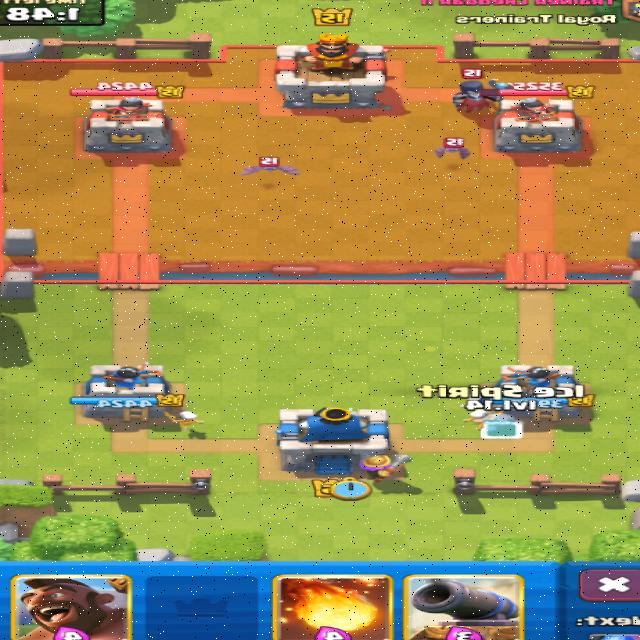Enemy-Bat: (242, 157, 298, 175), (435, 139, 471, 158)
Enemy-KingTower: (276, 34, 388, 108)
Enemy-NightWitch: (454, 80, 503, 112), (489, 80, 513, 88)
Enemy-PrincessTower: (85, 97, 172, 152), (495, 97, 582, 151)
Player-KingTower: (276, 407, 386, 474)
Player-Musketeer: (362, 454, 413, 482)
Player-PrincessTower: (71, 363, 183, 425), (481, 365, 594, 425)
Player-Skeleton: (165, 411, 204, 430), (464, 409, 499, 428)
